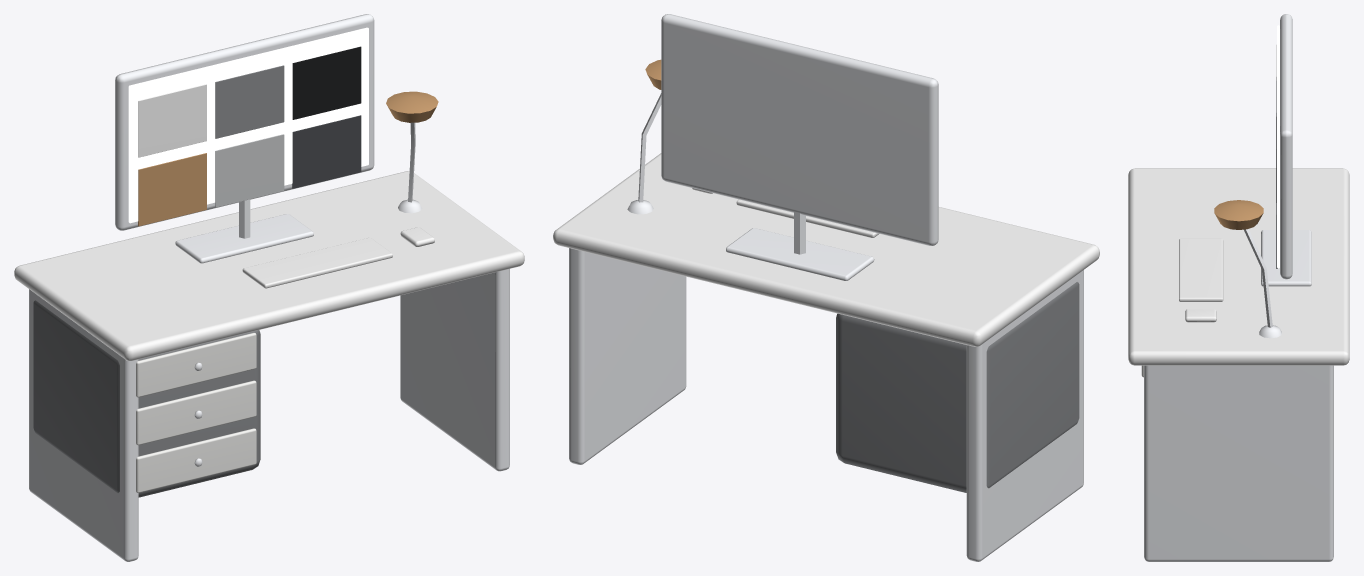
The model's file is desk_monitor_station.glb.
3 views of the same model, side by side, from view 1: azimuth 30°, elevation 25°; view 2: azimuth 150°, elevation 25°; view 3: azimuth 270°, elevation 25° (orthographic). The views are drawn at different scales.
Visible parts, largest first — view 1: desk_monitor_station; view 2: desk_monitor_station; view 3: desk_monitor_station.
Part boxes in pixels (x1,y1,x2,y2): desk_monitor_station: (14, 14, 524, 561); desk_monitor_station: (553, 14, 1099, 561); desk_monitor_station: (1128, 14, 1349, 561).
Size of the model in its own units: 1.4 by 1.4 by 0.7.
